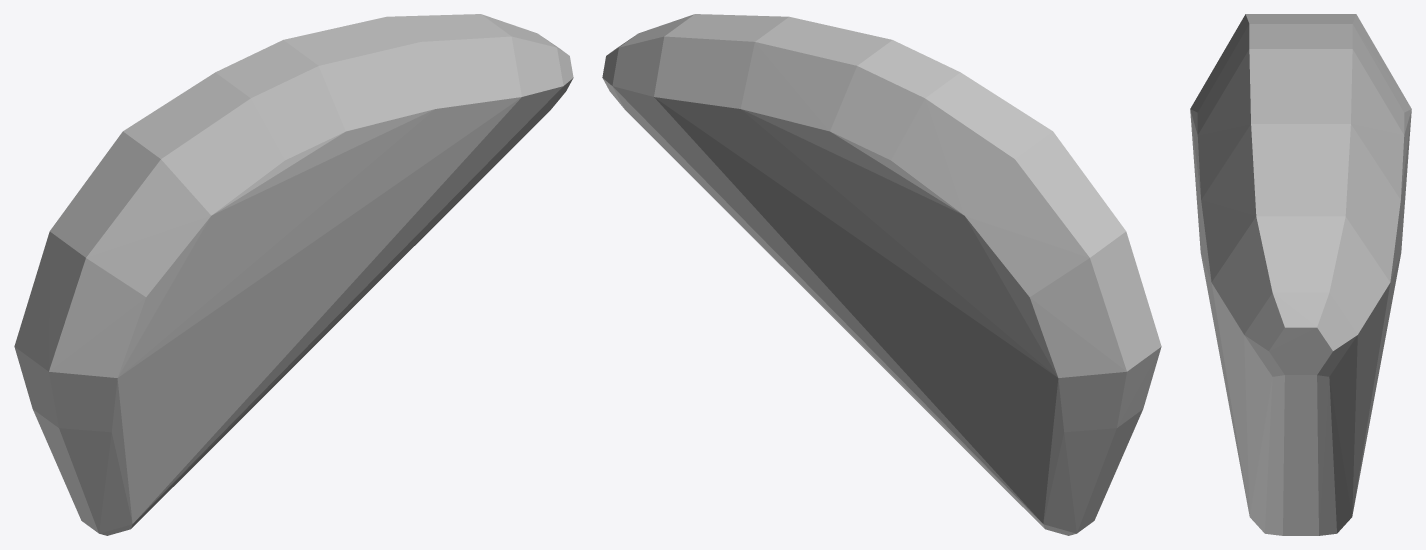
File: banana_convex_hull.fbx
3 views of the same model, side by side, from view 1: azimuth 30°, elevation 25°; view 2: azimuth 150°, elevation 25°; view 3: azimuth 270°, elevation 25° (orthographic). The views are drawn at different scales.
Parts seen in each view (by area): view 1: Cylinder; view 2: Cylinder; view 3: Cylinder.
Part boxes in pixels (<box>): Cylinder: <box>14,14,573,535</box>; Cylinder: <box>602,14,1161,535</box>; Cylinder: <box>1190,14,1411,535</box>.
Size of the model in its own units: 21.98 by 16.95 by 5.45.
